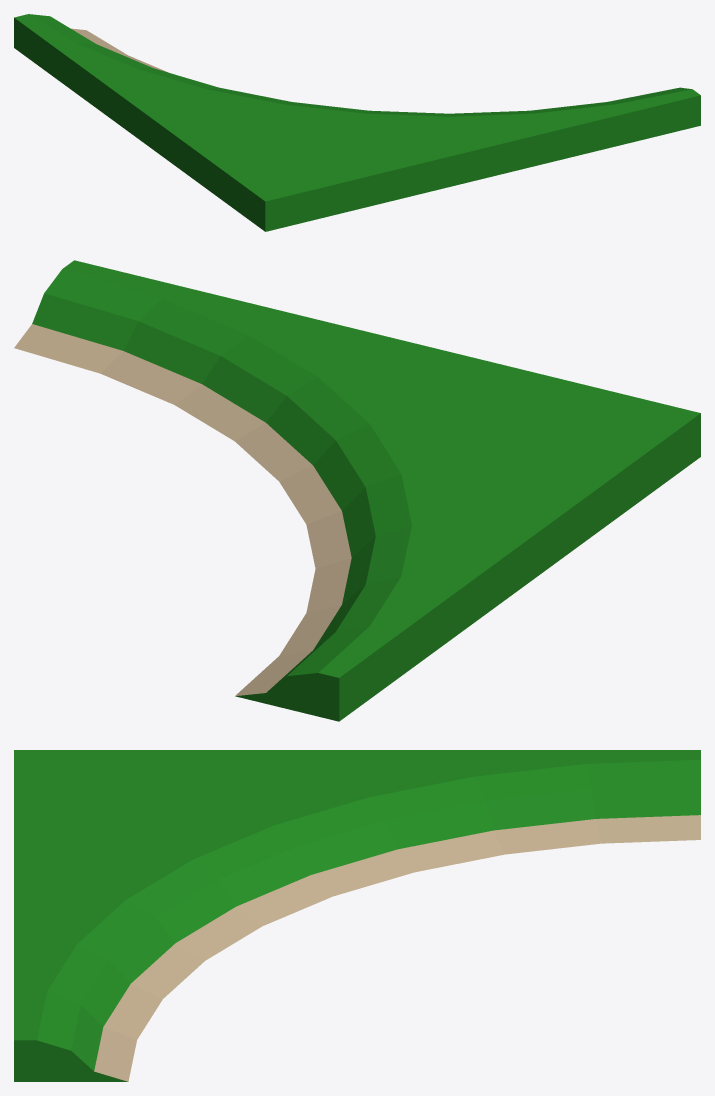
The model's file is Path_Corner_Outer_3x3.obj.
The picture shows the model from 3 angles, top to bottom: view 1: azimuth 30°, elevation 25°; view 2: azimuth 150°, elevation 25°; view 3: azimuth 270°, elevation 25°; orthographic projection. The views are drawn at different scales.
Parts seen in each view (by area): view 1: object1; view 2: object1; view 3: object1.
Boxes of the visible parts, bbox=[...] form: object1: bbox=[14, 14, 700, 231]; object1: bbox=[14, 260, 700, 721]; object1: bbox=[14, 750, 700, 1081].
Bounding box in the file's own units: 3 × 0.2 × 3.
